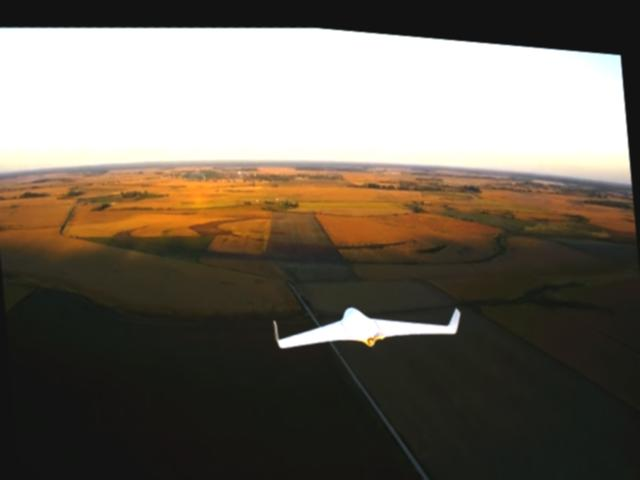plane: (272, 285, 466, 356)
